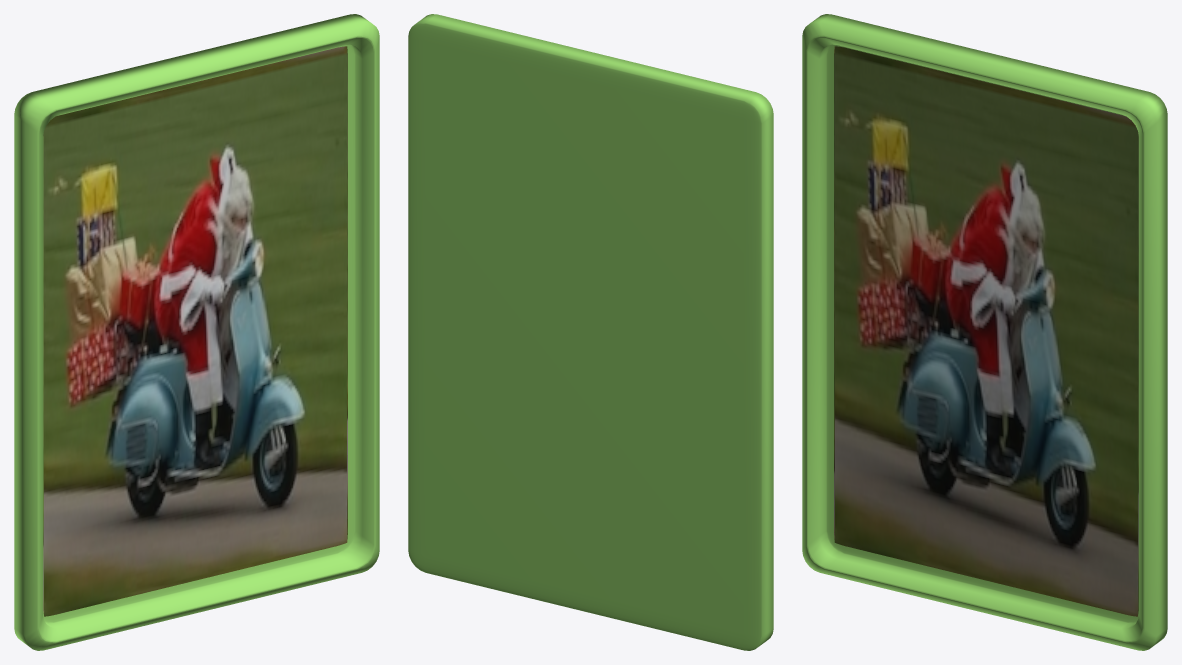
Rendered from tableau1.fbx.
3 renders of one model, left to right at view 1: azimuth 30°, elevation 25°; view 2: azimuth 150°, elevation 25°; view 3: azimuth 330°, elevation 25°, orthographic.
Parts seen in each view (by area): view 1: Cube; view 2: Cube; view 3: Cube.
Part boxes in pixels (box(x1,y1,x2,y2)): Cube: box(14, 14, 379, 650); Cube: box(408, 14, 773, 650); Cube: box(802, 14, 1167, 650).
Bounding box in the file's own units: 200 × 297 × 15.85.
